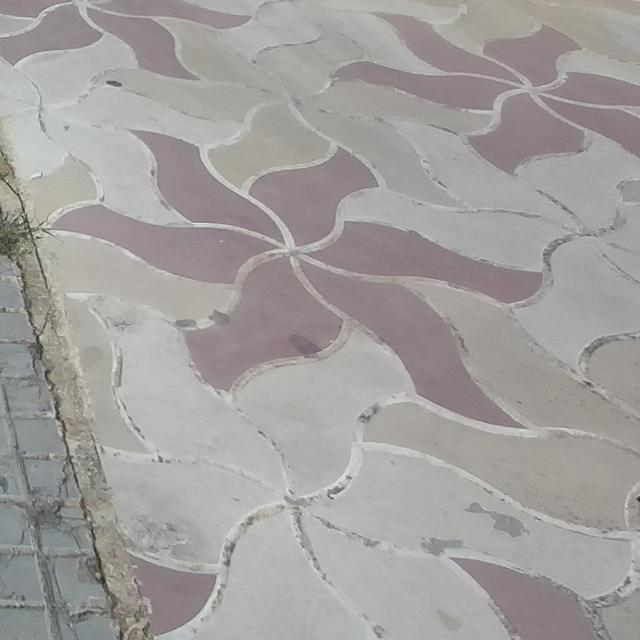calcada_quebrada: (0, 487, 122, 640), (0, 371, 83, 485), (0, 242, 62, 370)
